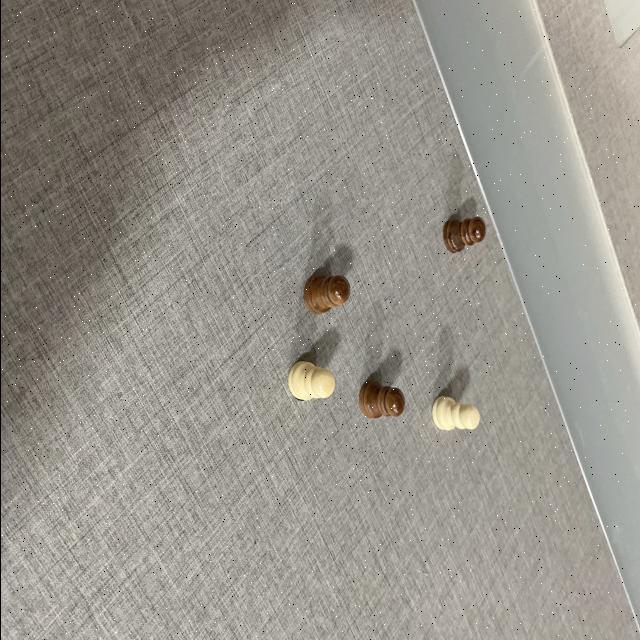Black-Pawn: (304, 272, 350, 318), (360, 385, 404, 420), (444, 216, 486, 252)
White-Pawn: (288, 362, 338, 400), (431, 396, 481, 432)
